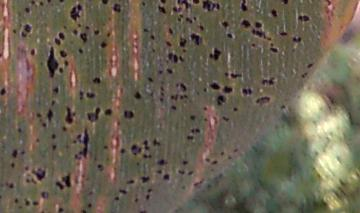tarspot: (76, 125, 90, 165), (46, 44, 59, 79), (62, 105, 79, 127), (207, 44, 223, 65), (68, 2, 83, 23), (201, 1, 222, 16), (18, 22, 34, 40), (86, 105, 101, 123), (30, 166, 48, 181), (166, 50, 180, 66), (61, 170, 73, 188), (239, 85, 255, 98), (189, 31, 202, 47), (296, 11, 313, 23), (129, 141, 142, 156), (254, 96, 273, 106), (260, 76, 277, 87), (111, 1, 123, 16), (239, 15, 251, 30), (79, 30, 89, 47), (208, 80, 221, 93), (214, 94, 226, 108), (9, 145, 20, 160), (51, 84, 63, 97), (268, 7, 280, 20), (239, 1, 252, 13), (101, 106, 115, 117), (155, 157, 169, 168), (229, 70, 243, 81), (121, 109, 136, 119), (200, 83, 210, 98), (27, 46, 39, 58), (222, 84, 234, 96), (139, 173, 151, 185), (85, 89, 97, 101), (91, 75, 104, 86), (116, 144, 127, 157), (179, 1, 193, 11), (46, 107, 54, 124), (161, 171, 172, 183), (157, 4, 168, 16), (253, 20, 265, 31), (133, 89, 143, 102), (149, 137, 162, 147), (266, 45, 280, 54), (290, 35, 304, 44), (165, 25, 176, 36), (277, 102, 288, 113), (57, 31, 67, 43), (76, 90, 86, 102), (33, 134, 41, 149), (190, 126, 203, 135), (7, 181, 18, 191), (58, 48, 68, 59), (34, 109, 44, 120), (98, 40, 109, 50), (31, 198, 41, 209), (187, 112, 198, 122), (219, 19, 230, 29), (225, 31, 236, 41), (278, 28, 289, 38), (146, 75, 156, 86), (177, 37, 187, 48), (164, 39, 174, 50), (22, 5, 32, 16), (140, 25, 150, 36), (100, 142, 111, 152), (50, 142, 59, 154), (184, 133, 196, 142), (132, 194, 141, 206), (300, 69, 309, 81), (175, 167, 187, 176), (179, 80, 187, 93), (8, 159, 18, 169), (49, 131, 59, 141), (183, 15, 193, 25), (39, 190, 49, 200), (178, 54, 188, 64), (157, 94, 167, 104), (141, 193, 152, 202), (187, 168, 196, 179), (103, 29, 114, 38), (1, 86, 8, 100), (123, 179, 137, 186), (71, 26, 79, 38), (168, 104, 180, 112), (149, 31, 157, 43), (54, 178, 61, 191), (15, 125, 24, 135), (231, 145, 240, 155), (54, 205, 65, 213), (165, 65, 173, 76), (250, 40, 258, 51), (145, 186, 156, 194), (10, 26, 18, 37), (48, 98, 59, 106), (93, 26, 100, 38), (11, 196, 20, 205), (201, 104, 210, 113), (221, 115, 230, 124), (61, 59, 71, 67), (305, 61, 315, 69), (118, 187, 128, 195), (96, 162, 104, 172), (211, 158, 219, 168), (19, 148, 27, 158), (23, 197, 30, 208), (139, 1, 150, 8), (76, 47, 85, 55), (231, 105, 239, 114), (99, 1, 111, 7), (37, 1, 46, 9), (202, 155, 211, 163), (170, 5, 179, 13), (226, 153, 234, 162), (86, 200, 94, 208), (169, 93, 177, 101), (57, 66, 66, 73), (181, 159, 190, 166), (192, 1, 201, 8), (157, 86, 166, 93), (281, 1, 293, 6), (114, 194, 121, 202), (53, 36, 60, 43), (56, 1, 68, 5), (218, 147, 224, 155)
